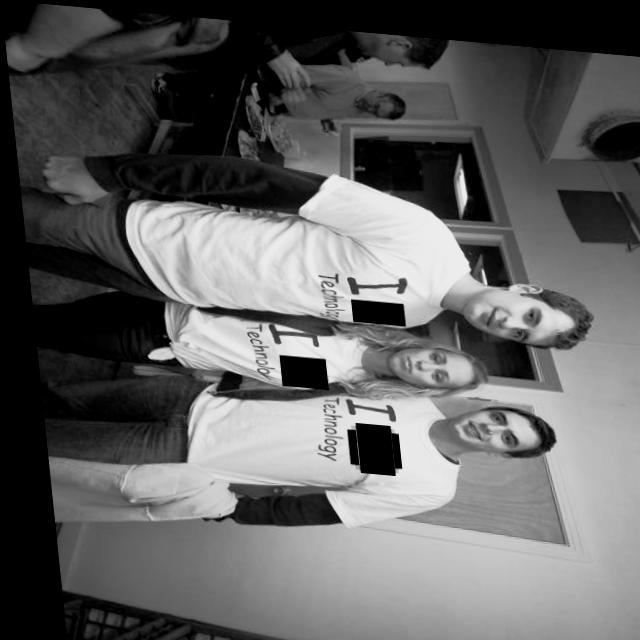qr_code: (341, 420, 388, 467), (271, 351, 320, 384), (344, 294, 399, 319)
